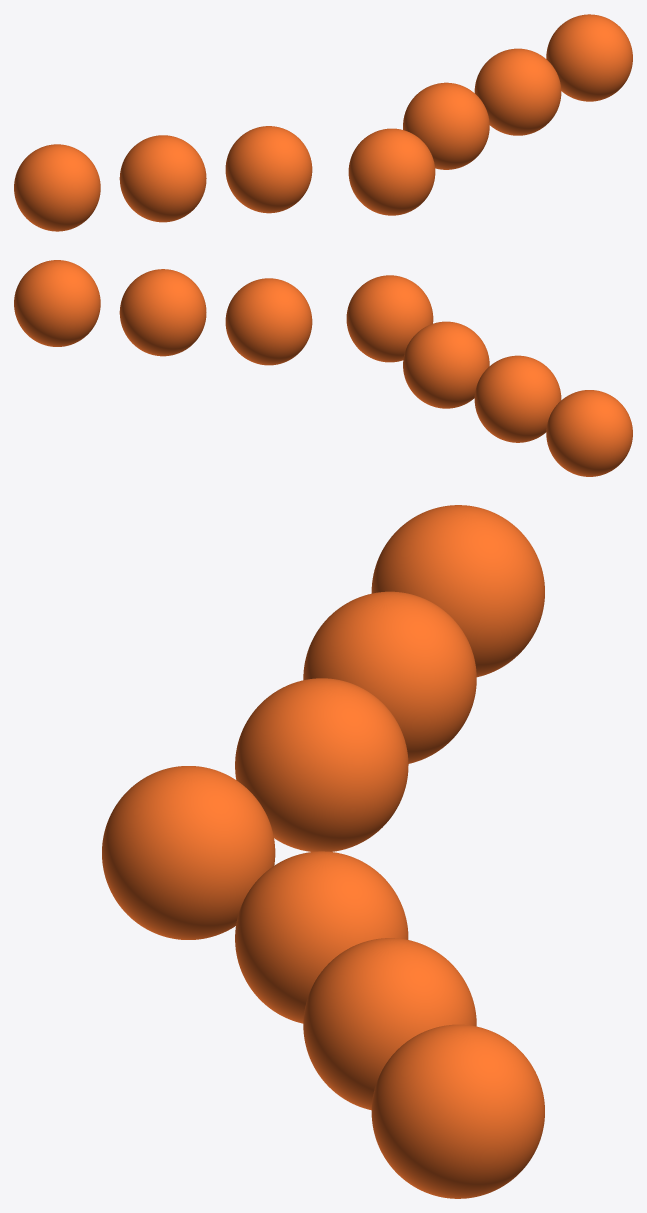
Rendered from 3d_dragon_balls__full_1_to_7_star_set.glb.
3 renders of one model, top to bottom at view 1: azimuth 30°, elevation 25°; view 2: azimuth 150°, elevation 25°; view 3: azimuth 270°, elevation 25°, orthographic. The views are drawn at different scales.
Visible parts, largest first — view 1: Ball6; view 2: Ball6; view 3: Ball6.
Boxes of the visible parts, x1,y1,x2,y2 form: Ball6: (14, 14, 632, 231); Ball6: (14, 260, 632, 476); Ball6: (102, 505, 544, 1198).
Size of the model in its own units: 20.54 by 2.57 by 6.49.
